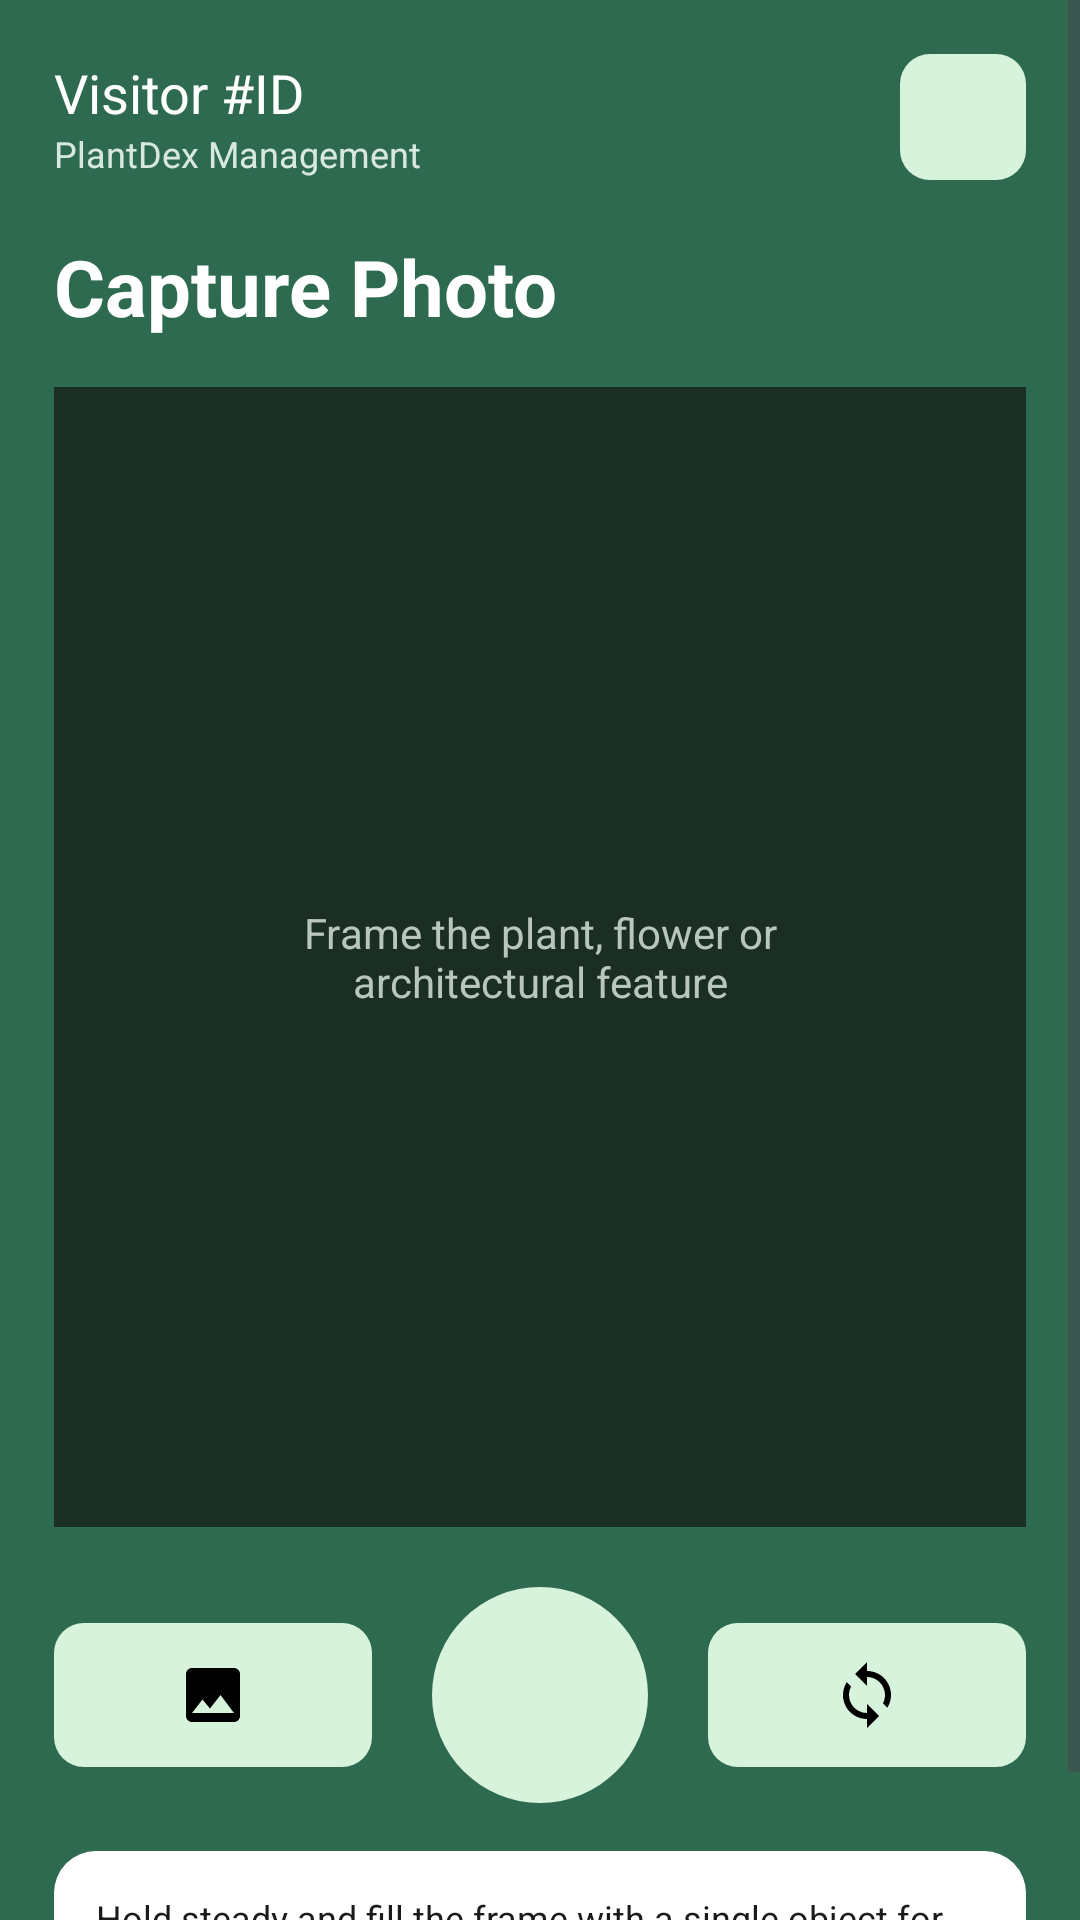

Icons on this 1080x1920 Android screen, each with the point to tap as (x=x, y=y):
Choose from gallery: (x=213, y=1695)
Flip camera: (x=867, y=1695)
